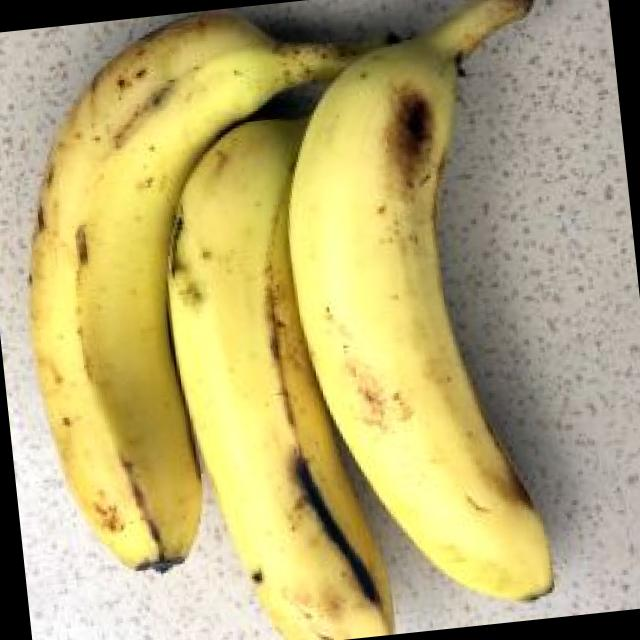banana: (31, 79, 561, 528)
